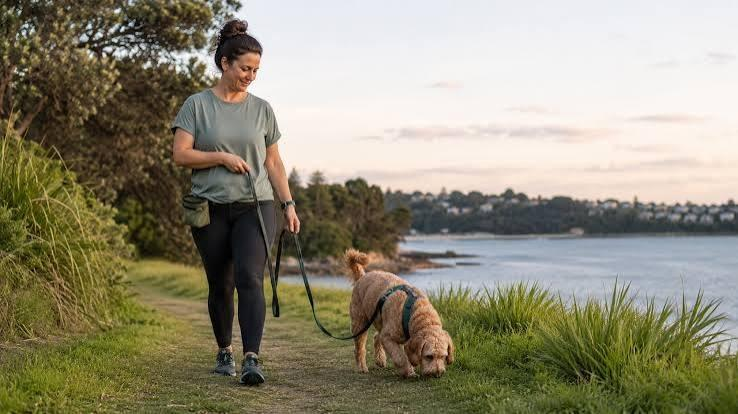adult_dog: (343, 246, 456, 380)
non-dog: (168, 16, 306, 387)
